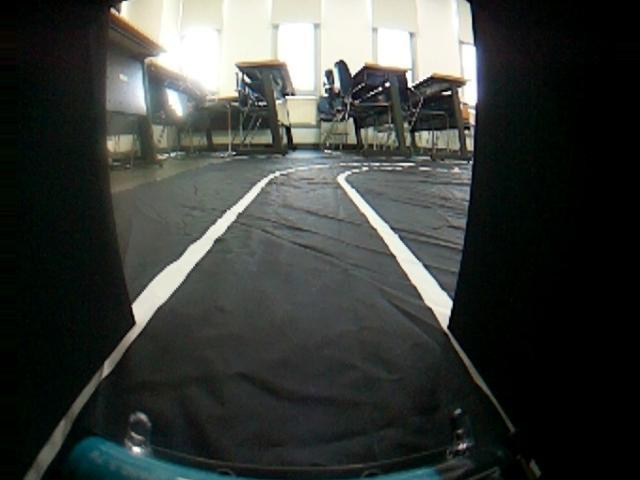straight: (18, 162, 640, 480)
